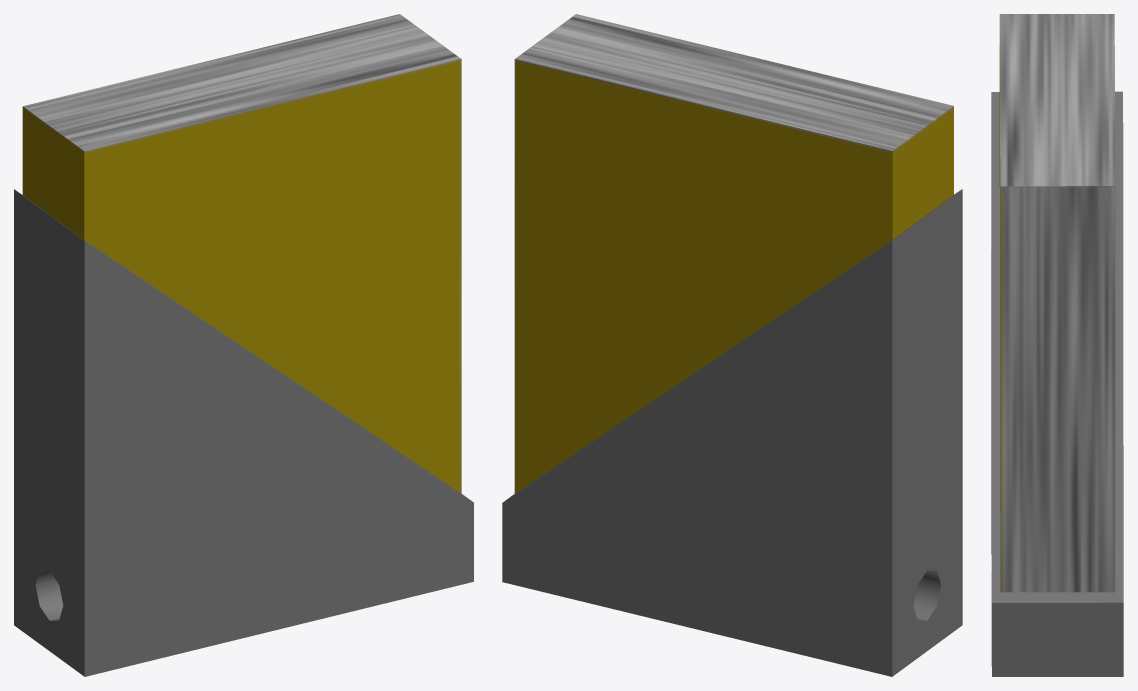
Rendered from FolderB.fbx.
The picture shows the model from 3 angles, left to right: view 1: azimuth 30°, elevation 25°; view 2: azimuth 150°, elevation 25°; view 3: azimuth 270°, elevation 25°; orthographic projection. The views are drawn at different scales.
Parts seen in each view (by area): view 1: FolderB; view 2: FolderB; view 3: FolderB.
Part boxes in pixels (bbox=[...]): FolderB: bbox=[14, 14, 473, 676]; FolderB: bbox=[502, 14, 962, 676]; FolderB: bbox=[991, 14, 1123, 676].
Bounding box in the file's own units: 30.02 × 38.4 × 9.45.
